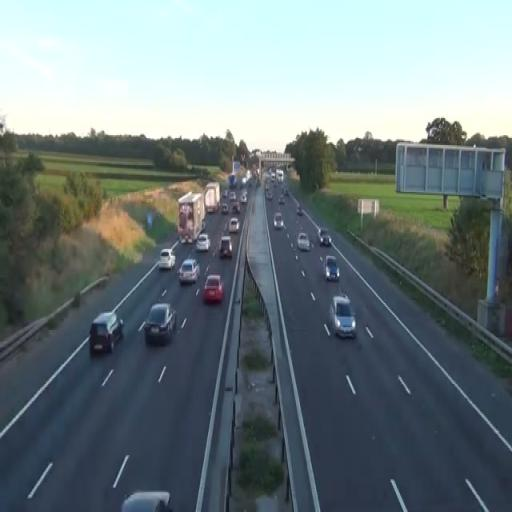Car: (90, 310, 124, 354), (144, 302, 178, 345), (329, 295, 357, 339), (203, 273, 225, 303), (178, 258, 200, 285), (324, 256, 340, 282), (158, 248, 176, 271), (218, 234, 233, 260), (317, 228, 332, 246), (196, 233, 210, 252), (297, 233, 310, 251), (229, 217, 239, 234), (274, 212, 284, 229)
Truck: (177, 191, 205, 244)
